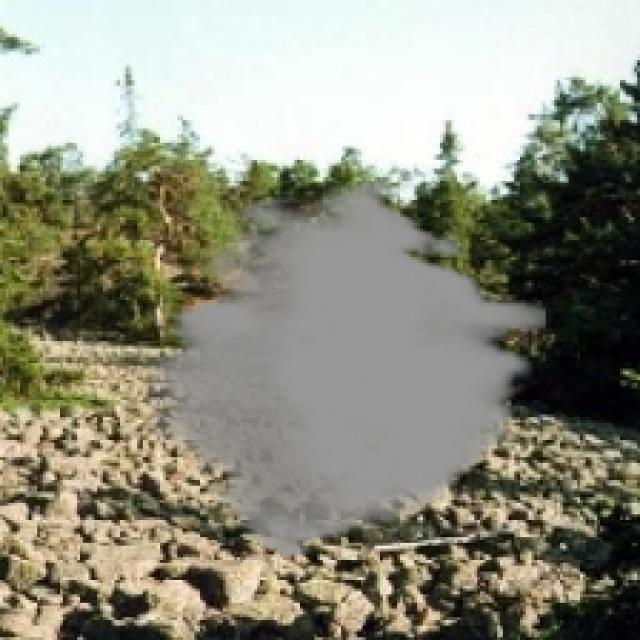smoke: (145, 177, 546, 560)
